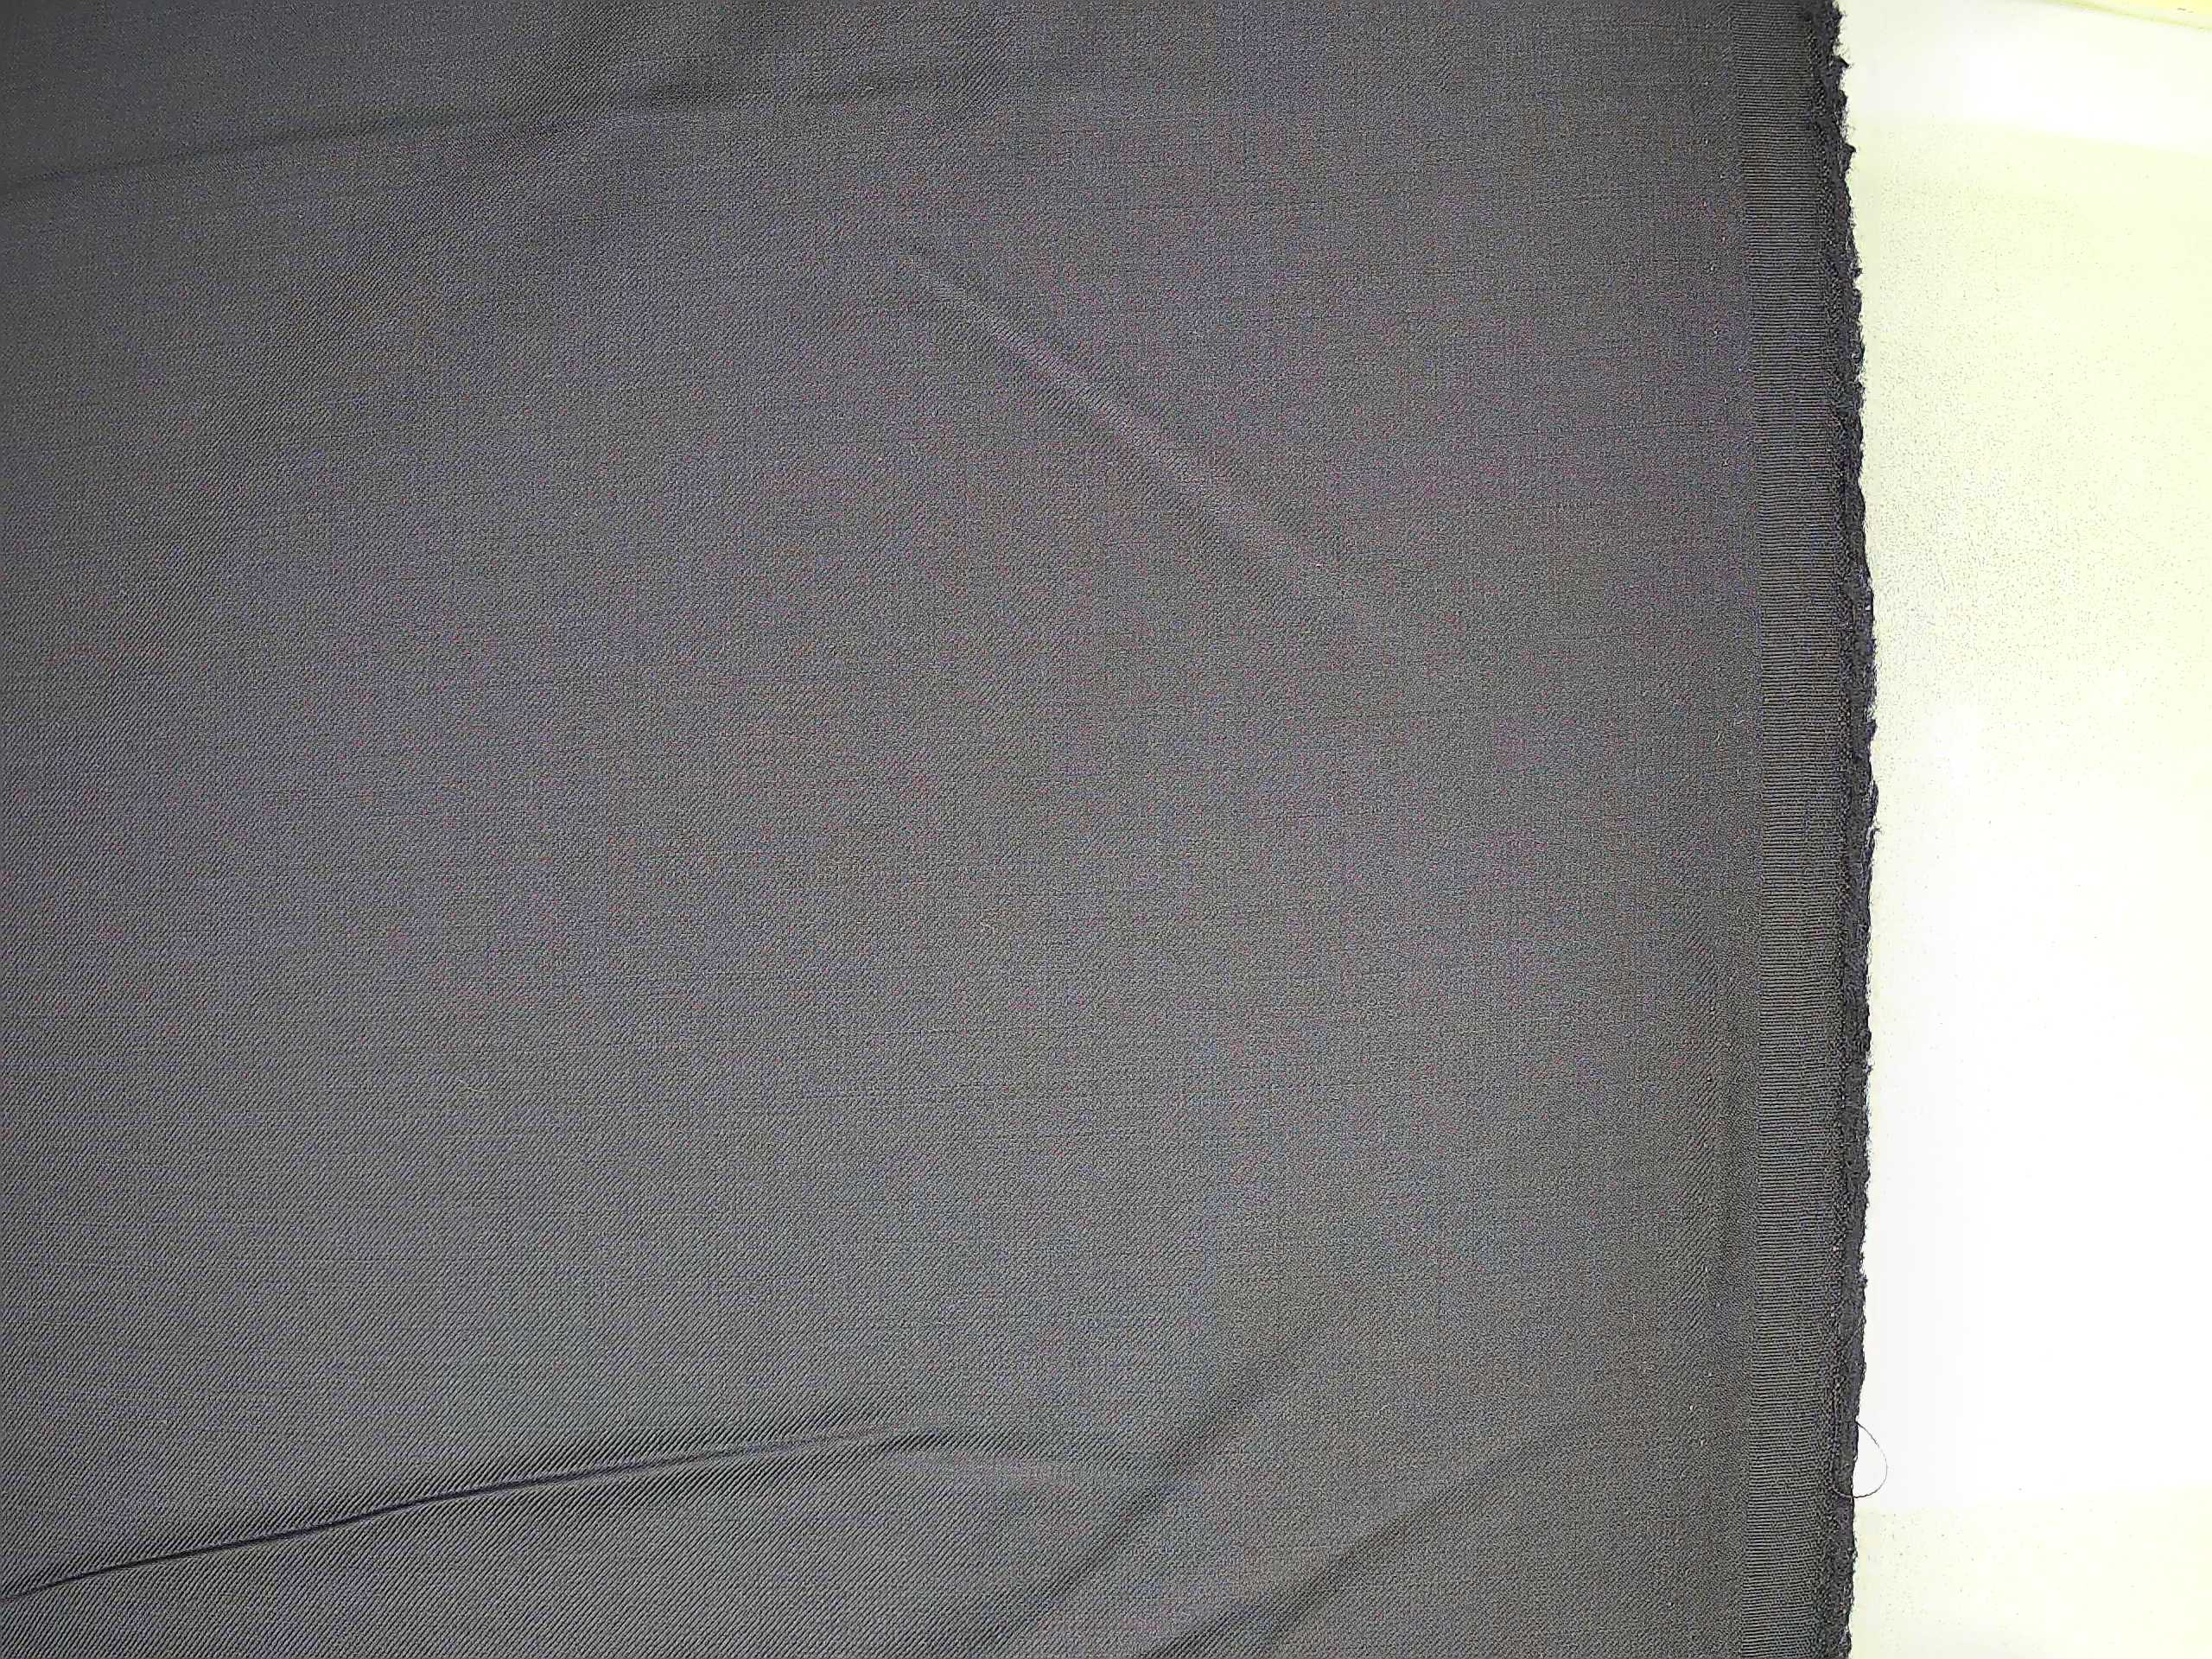others: (1662, 1199, 1730, 1607)
